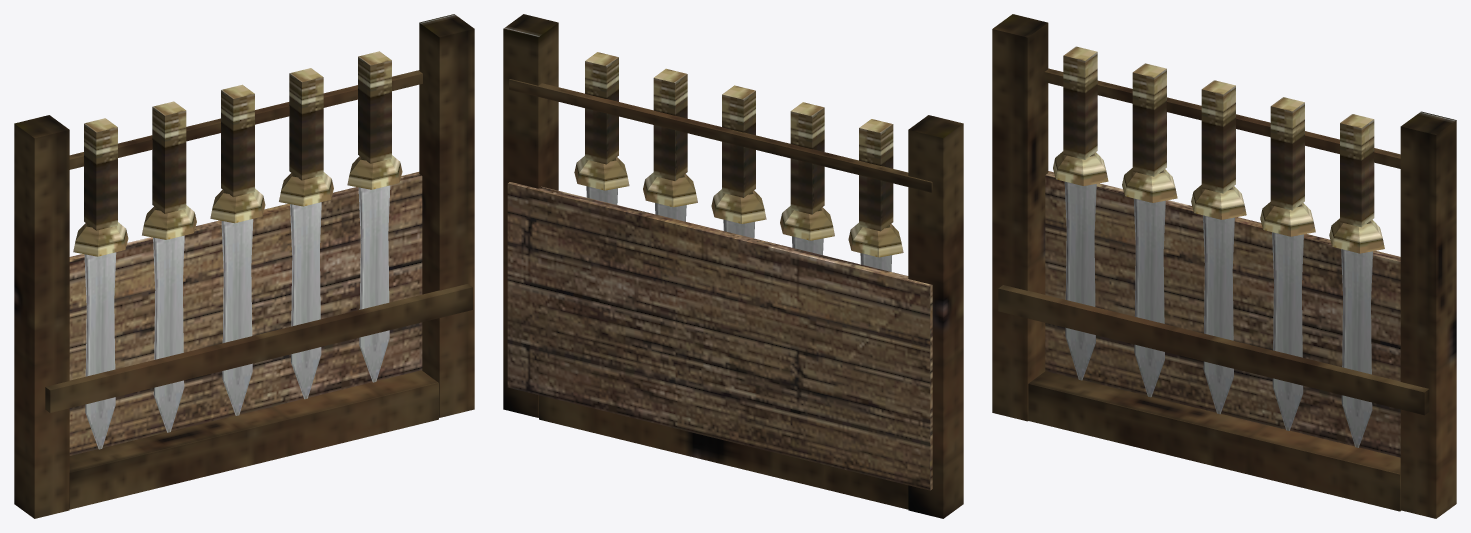
Rendered from sword_rack.dae.
3 views of the same model, side by side, from view 1: azimuth 30°, elevation 25°; view 2: azimuth 150°, elevation 25°; view 3: azimuth 330°, elevation 25° (orthographic).
Visible parts, largest first — view 1: Object001; view 2: Object001; view 3: Object001.
Boxes of the visible parts, x1,y1,x2,y2 form: Object001: (14, 14, 474, 518); Object001: (503, 14, 963, 518); Object001: (992, 14, 1456, 518).
Size of the model in its own units: 3.42 by 2.84 by 0.3686.
